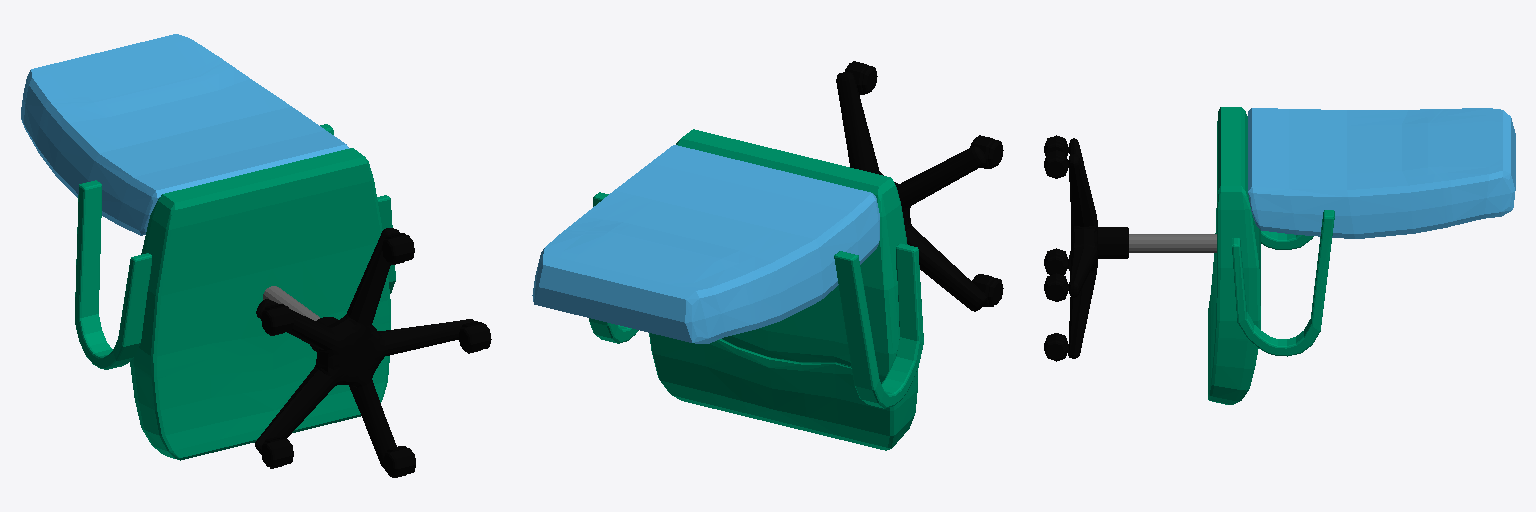
URDF robot description (106):
<robot name="106">


	<link name="0:virtual">
		<visual>
			<origin xyz="0.0 0.0 0.0" rpy="0 0 0"/>
			<geometry>
				<cylinder length="0" radius="0"/>
			</geometry>
		</visual>
	</link>


	<link name="1:back 1">
		<visual>
			<origin xyz="4.991888999938965e-07 -0.44824299216270447 -0.2122489959001541" rpy="0 0 0"/>
			<geometry>
				<mesh filename="../raw_data/106/part_meshes/1.dae" />
			</geometry>
		</visual>
	</link>


	<link name="2:seat 1">
		<visual>
			<origin xyz="-0.0 -0.4177574962377548 0.002097010612487793" rpy="0 0 0"/>
			<geometry>
				<mesh filename="../raw_data/106/part_meshes/2.dae" />
			</geometry>
		</visual>
	</link>


	<link name="3:wheel 1">
		<visual>
			<origin xyz="-0.06868565082550049 -0.024287753649935073 -0.2516235038638115" rpy="0 0 0"/>
			<geometry>
				<mesh filename="../raw_data/106/part_meshes/3.dae" />
			</geometry>
		</visual>
	</link>


	<link name="4:wheel 2">
		<visual>
			<origin xyz="-0.23461249470710754 -0.024287748803044046 -0.02985568018630147" rpy="0 0 0"/>
			<geometry>
				<mesh filename="../raw_data/106/part_meshes/4.dae" />
			</geometry>
		</visual>
	</link>


	<link name="5:wheel 3">
		<visual>
			<origin xyz="-0.07187665067613125 -0.024287743991000088 0.19031649827957153" rpy="0 0 0"/>
			<geometry>
				<mesh filename="../raw_data/106/part_meshes/5.dae" />
			</geometry>
		</visual>
	</link>


	<link name="6:wheel 4">
		<visual>
			<origin xyz="0.19296850264072418 -0.024287751766969956 -0.1654689982533455" rpy="0 0 0"/>
			<geometry>
				<mesh filename="../raw_data/106/part_meshes/6.dae" />
			</geometry>
		</visual>
	</link>


	<link name="7:wheel 5">
		<visual>
			<origin xyz="0.19296850264072418 -0.024287745769379976 0.10894864797592163" rpy="0 0 0"/>
			<geometry>
				<mesh filename="../raw_data/106/part_meshes/7.dae" />
			</geometry>
		</visual>
	</link>


	<link name="8:gas lift piece 1">
		<visual>
			<origin xyz="4.0625215164125095e-08 -0.29204249382019043 -0.02732014417349355" rpy="0 0 0"/>
			<geometry>
				<mesh filename="../raw_data/106/part_meshes/8.dae" />
			</geometry>
		</visual>
	</link>


	<link name="9:caster 1">
		<visual>
			<origin xyz="-0.23461250215768814 -0.03893114998936653 -0.029855683918867726" rpy="0 0 0"/>
			<geometry>
				<mesh filename="../raw_data/106/part_meshes/9.dae" />
			</geometry>
		</visual>
	</link>


	<link name="10:caster 2">
		<visual>
			<origin xyz="-0.07187669910490513 -0.03893114998936653 0.19031649827957153" rpy="0 0 0"/>
			<geometry>
				<mesh filename="../raw_data/106/part_meshes/10.dae" />
			</geometry>
		</visual>
	</link>


	<link name="11:caster 3">
		<visual>
			<origin xyz="0.19296849519014359 -0.03893114998936653 0.10894870385527611" rpy="0 0 0"/>
			<geometry>
				<mesh filename="../raw_data/106/part_meshes/11.dae" />
			</geometry>
		</visual>
	</link>


	<link name="12:caster 4">
		<visual>
			<origin xyz="-0.06868570111691952 -0.03893120028078556 -0.2516235038638115" rpy="0 0 0"/>
			<geometry>
				<mesh filename="../raw_data/106/part_meshes/12.dae" />
			</geometry>
		</visual>
	</link>


	<link name="13:caster 5">
		<visual>
			<origin xyz="0.19296849519014359 -0.03893120028078556 -0.1654690057039261" rpy="0 0 0"/>
			<geometry>
				<mesh filename="../raw_data/106/part_meshes/13.dae" />
			</geometry>
		</visual>
	</link>


	<joint name="2:seat 1::1:back 1_rotation" type="revolute">
		<parent link="2:seat 1"/>
		<child link="1:back 1"/>
		<origin xyz="-4.991888999938965e-07 0.030485495924949646 0.2143460065126419" rpy="0 0 0"/>
		<limit lower="-0.32986722862692824" upper="0.1413716694115407" effort="10" velocity="3"/>
		<axis xyz="-1.0 0.0 0.0"/>
	</joint>


	<joint name="0:virtual::2:seat 1_translation" type="prismatic">
		<parent link="0:virtual"/>
		<child link="2:seat 1"/>
		<origin xyz="0.0 0.4177574962377548 -0.002097010612487793" rpy="0 0 0"/>
		<limit lower="-0.0502704772949219" upper="0.0347295227050781" effort="10" velocity="3"/>
		<axis xyz="0.0 1.0 0.0"/>
	</joint>


	<joint name="12:caster 4::3:wheel 1_rotation" type="revolute">
		<parent link="12:caster 4"/>
		<child link="3:wheel 1"/>
		<origin xyz="-5.029141902923584e-08 -0.014643446630850487 0.0" rpy="0 0 0"/>
		<limit lower="-3.141592653589793" upper="3.141592653589793" effort="10" velocity="3"/>
		<axis xyz="-1.0 0.0 0.0"/>
	</joint>


	<joint name="9:caster 1::4:wheel 2_rotation" type="revolute">
		<parent link="9:caster 1"/>
		<child link="4:wheel 2"/>
		<origin xyz="-7.450580596923828e-09 -0.014643401186322486 -3.7325662560760975e-09" rpy="0 0 0"/>
		<limit lower="-3.141592653589793" upper="3.141592653589793" effort="10" velocity="3"/>
		<axis xyz="1.0 0.0 0.0"/>
	</joint>


	<joint name="10:caster 2::5:wheel 3_rotation" type="revolute">
		<parent link="10:caster 2"/>
		<child link="5:wheel 3"/>
		<origin xyz="-4.842877388000488e-08 -0.014643405998366443 0.0" rpy="0 0 0"/>
		<limit lower="-3.141592653589793" upper="3.141592653589793" effort="10" velocity="3"/>
		<axis xyz="-1.0 0.0 0.0"/>
	</joint>


	<joint name="13:caster 5::6:wheel 4_rotation" type="revolute">
		<parent link="13:caster 5"/>
		<child link="6:wheel 4"/>
		<origin xyz="-7.450580596923828e-09 -0.014643448513815605 -7.450580596923828e-09" rpy="0 0 0"/>
		<limit lower="-3.141592653589793" upper="3.141592653589793" effort="10" velocity="3"/>
		<axis xyz="1.0 0.0 0.0"/>
	</joint>


	<joint name="11:caster 3::7:wheel 5_rotation" type="revolute">
		<parent link="11:caster 3"/>
		<child link="7:wheel 5"/>
		<origin xyz="-7.450580596923828e-09 -0.014643404219986556 5.587935447692871e-08" rpy="0 0 0"/>
		<limit lower="-3.141592653589793" upper="3.141592653589793" effort="10" velocity="3"/>
		<axis xyz="1.0 0.0 0.0"/>
	</joint>


	<joint name="0:virtual::8:gas lift piece 1_rotation" type="revolute">
		<parent link="0:virtual"/>
		<child link="8:gas lift piece 1"/>
		<origin xyz="-4.0625215164125095e-08 0.29204249382019043 0.02732014417349355" rpy="0 0 0"/>
		<limit lower="-3.141592653589793" upper="3.141592653589793" effort="10" velocity="3"/>
		<axis xyz="0.0 1.0 0.0"/>
	</joint>


	<joint name="8:gas lift piece 1::9:caster 1_rotation" type="revolute">
		<parent link="8:gas lift piece 1"/>
		<child link="9:caster 1"/>
		<origin xyz="0.2346125427829033 -0.2531113438308239 0.0025355397453741754" rpy="0 0 0"/>
		<limit lower="-3.141592653589793" upper="3.141592653589793" effort="10" velocity="3"/>
		<axis xyz="0.0 1.0 0.0"/>
	</joint>


	<joint name="8:gas lift piece 1::10:caster 2_rotation" type="revolute">
		<parent link="8:gas lift piece 1"/>
		<child link="10:caster 2"/>
		<origin xyz="0.07187673973012029 -0.2531113438308239 -0.21763664245306508" rpy="0 0 0"/>
		<limit lower="-3.141592653589793" upper="3.141592653589793" effort="10" velocity="3"/>
		<axis xyz="0.0 1.0 0.0"/>
	</joint>


	<joint name="8:gas lift piece 1::11:caster 3_rotation" type="revolute">
		<parent link="8:gas lift piece 1"/>
		<child link="11:caster 3"/>
		<origin xyz="-0.19296845456492842 -0.2531113438308239 -0.13626884802876965" rpy="0 0 0"/>
		<limit lower="-3.141592653589793" upper="3.141592653589793" effort="10" velocity="3"/>
		<axis xyz="0.0 1.0 0.0"/>
	</joint>


	<joint name="8:gas lift piece 1::12:caster 4_rotation" type="revolute">
		<parent link="8:gas lift piece 1"/>
		<child link="12:caster 4"/>
		<origin xyz="0.06868574174213468 -0.25311129353940487 0.22430335969031795" rpy="0 0 0"/>
		<limit lower="-3.141592653589793" upper="3.141592653589793" effort="10" velocity="3"/>
		<axis xyz="0.0 1.0 0.0"/>
	</joint>


	<joint name="8:gas lift piece 1::13:caster 5_rotation" type="revolute">
		<parent link="8:gas lift piece 1"/>
		<child link="13:caster 5"/>
		<origin xyz="-0.19296845456492842 -0.25311129353940487 0.13814886153043254" rpy="0 0 0"/>
		<limit lower="-3.141592653589793" upper="3.141592653589793" effort="10" velocity="3"/>
		<axis xyz="0.0 1.0 0.0"/>
	</joint>


</robot>

--- What the picture shows (computed from the rendered views, not written in the file) ---
The picture shows the robot from 3 angles, left to right: view 1: azimuth 30°, elevation 25°; view 2: azimuth 150°, elevation 25°; view 3: azimuth 270°, elevation 25°; orthographic projection.
Robot: 106 — 14 links, 13 joints (12 revolute, 1 prismatic); root link 0:virtual; default pose: all joints at 0.
Visible links, largest first — view 1: 2:seat 1, 1:back 1, 8:gas lift piece 1, 3:wheel 1, 6:wheel 4, 5:wheel 3, 7:wheel 5, 4:wheel 2; view 2: 1:back 1, 2:seat 1, 8:gas lift piece 1; view 3: 1:back 1, 2:seat 1, 8:gas lift piece 1.
Boxes of the visible links, left/top/right/bottom form: 2:seat 1: left=75, top=124, right=395, bottom=460; 1:back 1: left=21, top=34, right=349, bottom=235; 8:gas lift piece 1: left=255, top=228, right=473, bottom=468; 3:wheel 1: left=382, top=235, right=414, bottom=263; 6:wheel 4: left=261, top=306, right=293, bottom=334; 5:wheel 3: left=383, top=448, right=415, bottom=476; 7:wheel 5: left=261, top=438, right=293, bottom=467; 4:wheel 2: left=459, top=323, right=491, bottom=351; 1:back 1: left=532, top=145, right=879, bottom=343; 2:seat 1: left=589, top=129, right=923, bottom=450; 8:gas lift piece 1: left=836, top=72, right=986, bottom=311; 1:back 1: left=1248, top=108, right=1515, bottom=238; 2:seat 1: left=1208, top=107, right=1334, bottom=404; 8:gas lift piece 1: left=1068, top=138, right=1216, bottom=358.
Bounding box of the posed robot: 0.5962 × 1.04 × 0.5504 m (x, y, z).
13 mesh visuals loaded from 13 distinct referenced files (13 Collada DAE).